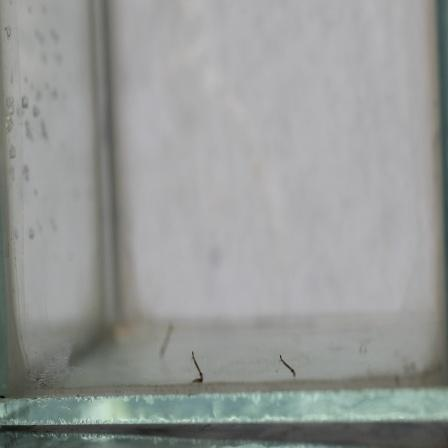Jentik-Nyamuk: (188, 348, 208, 386), (276, 351, 298, 382)
